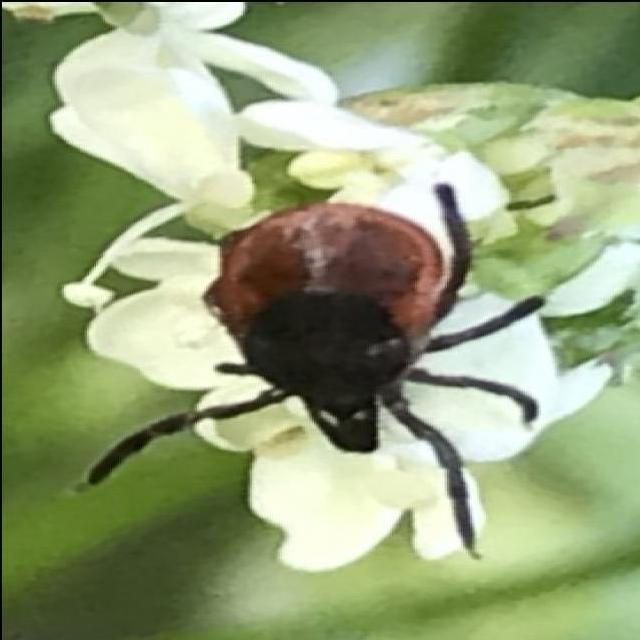Ixodes Ricinus-F: (96, 180, 546, 568)
